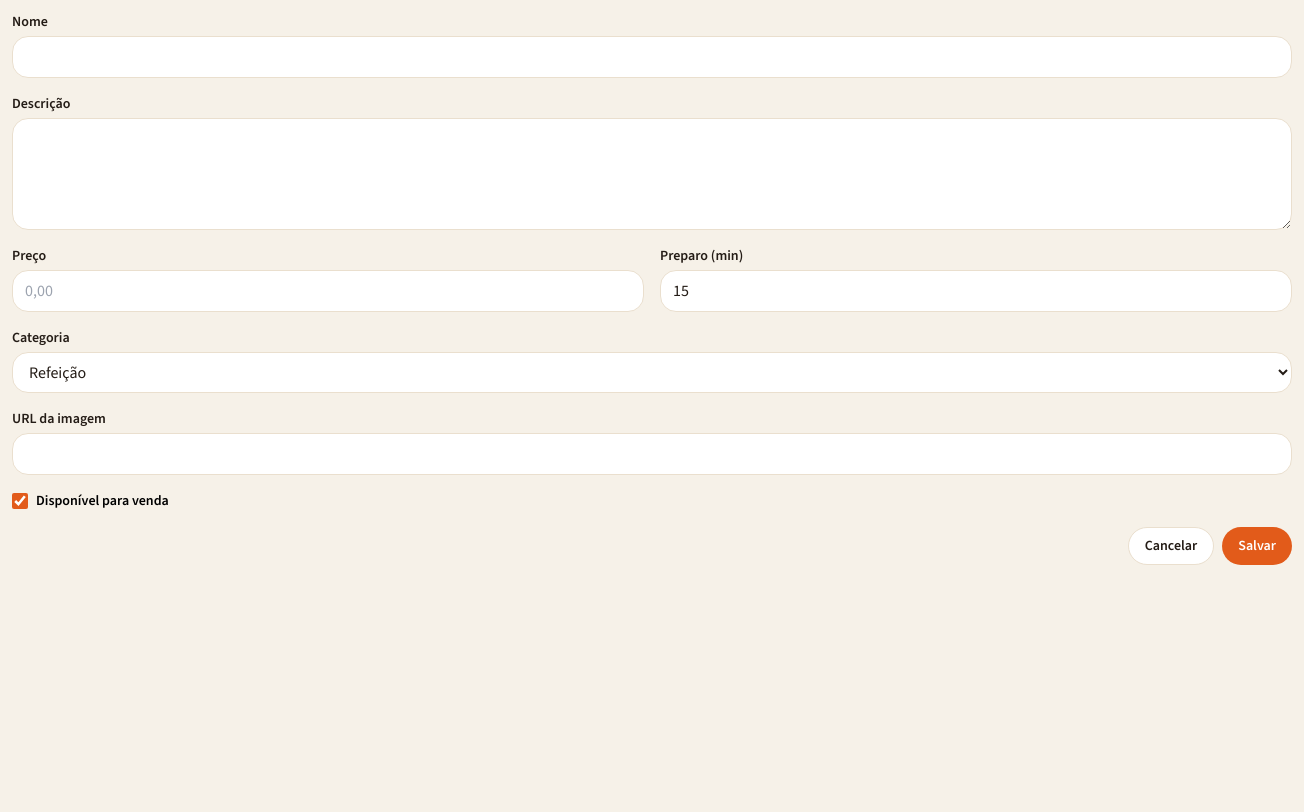
Scenario: máscaras de formulário › aplica a máscara de preço no produto
The image size is (1304, 812).
In the field labelled "Preço": (328, 291) [12,270,644,312], type "1990"
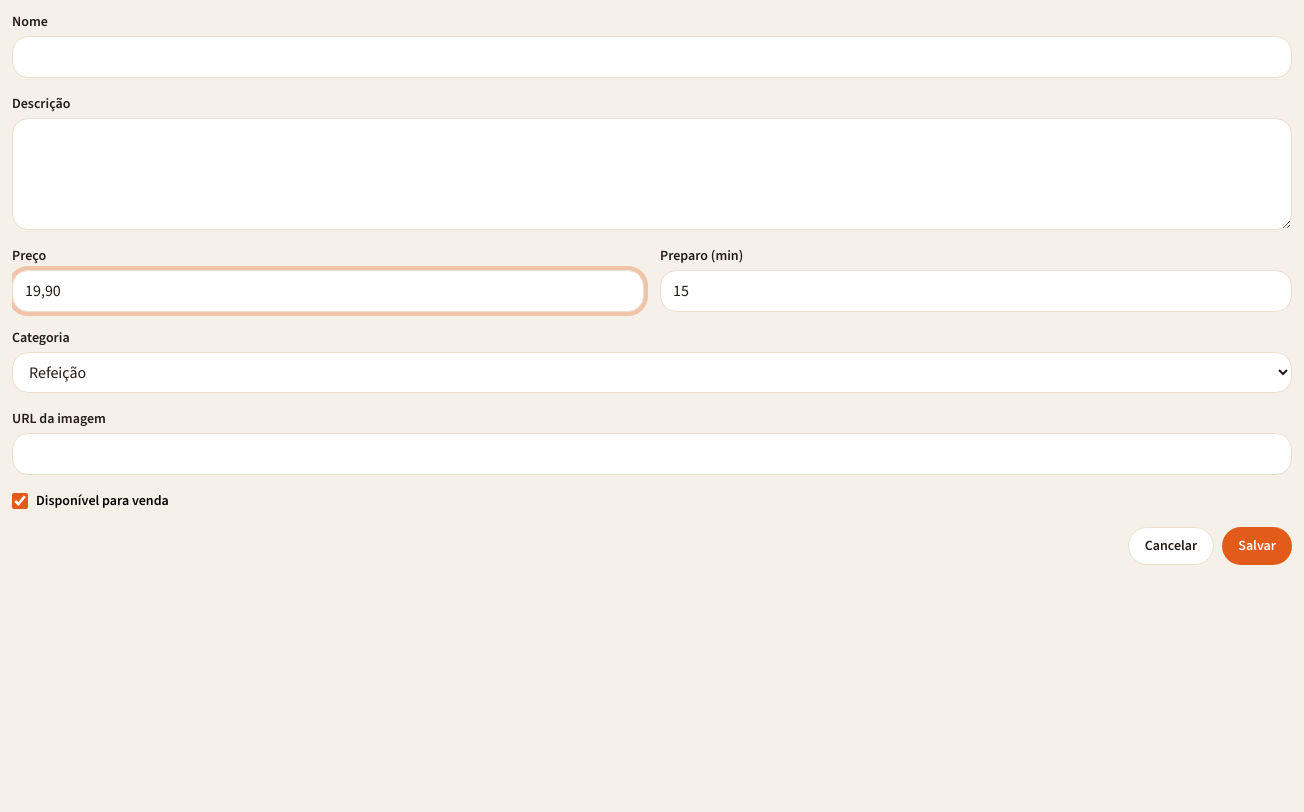
expect the field labelled "Preço" holds "19,90": met, box [12,270,644,312]
